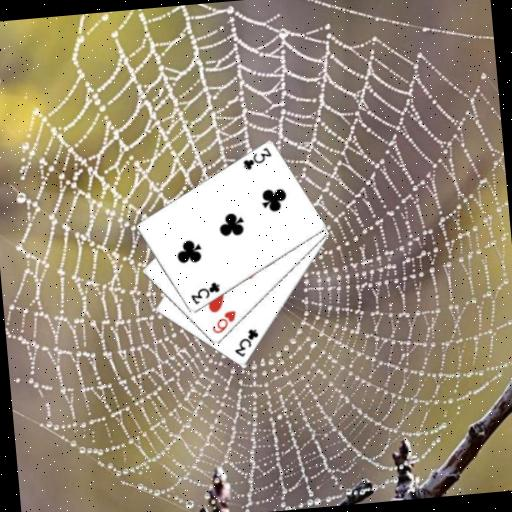3C: (229, 326, 262, 360), (186, 279, 222, 307), (239, 144, 275, 172)
6H: (207, 307, 239, 336)
